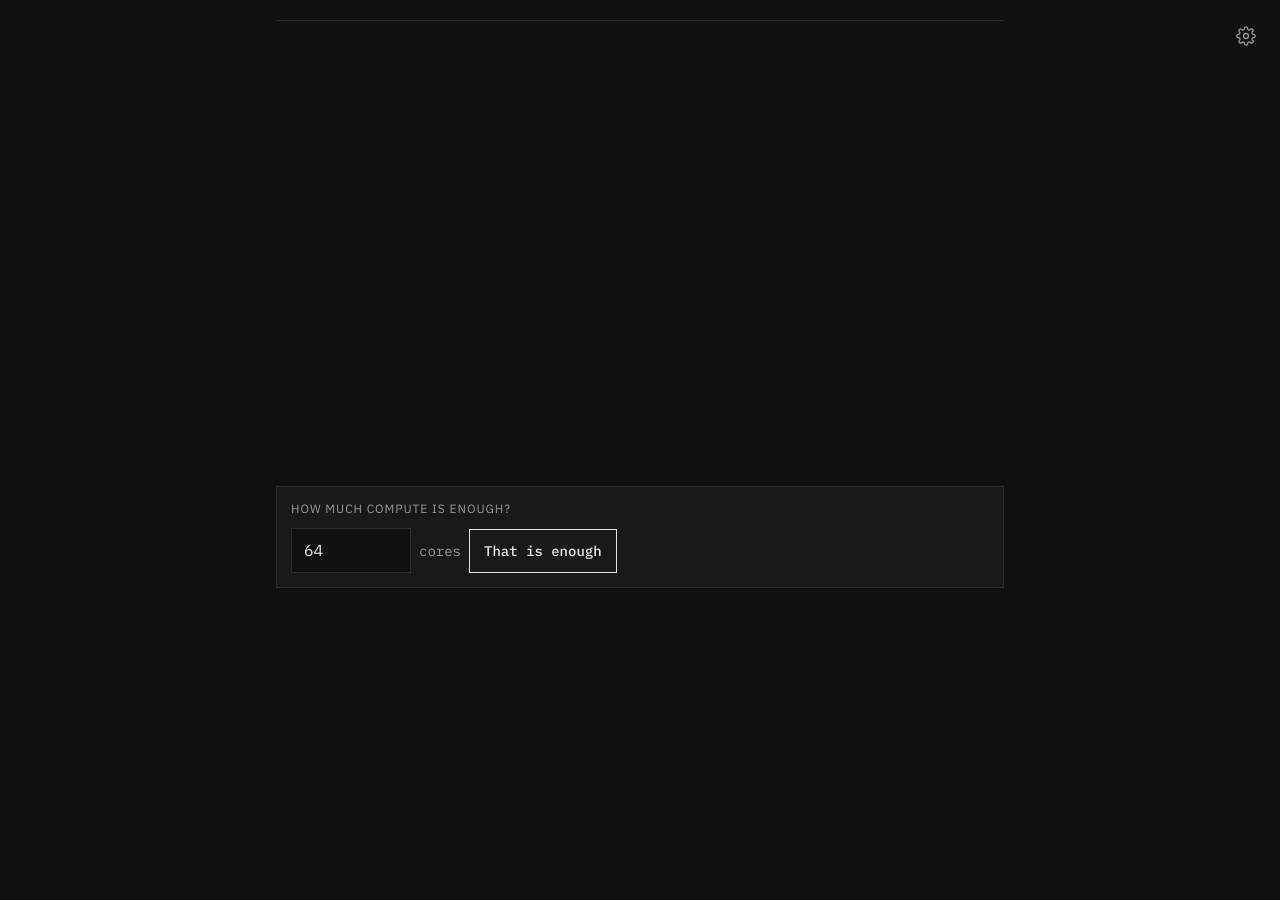
Scenario: endings › Enough asks how much is enough, then becomes an inbox with a fourth box
The image size is (1280, 900).
Replace the text in the number field labelled "How much compute is enough?" with "16" at (351,551), box left=291, top=528, right=411, bottom=573
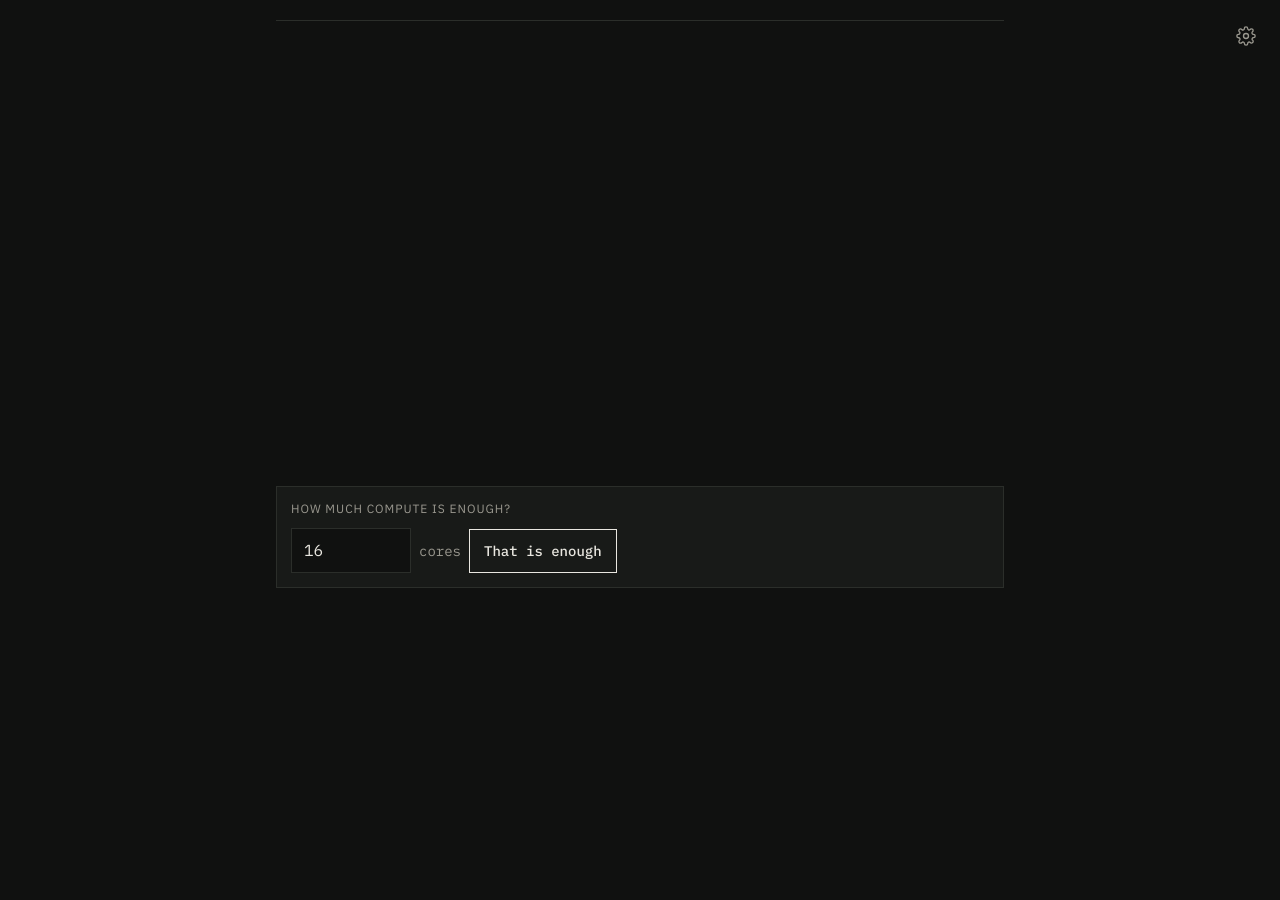
Click the button "That is enough" at (543,551), box left=469, top=529, right=617, bottom=573
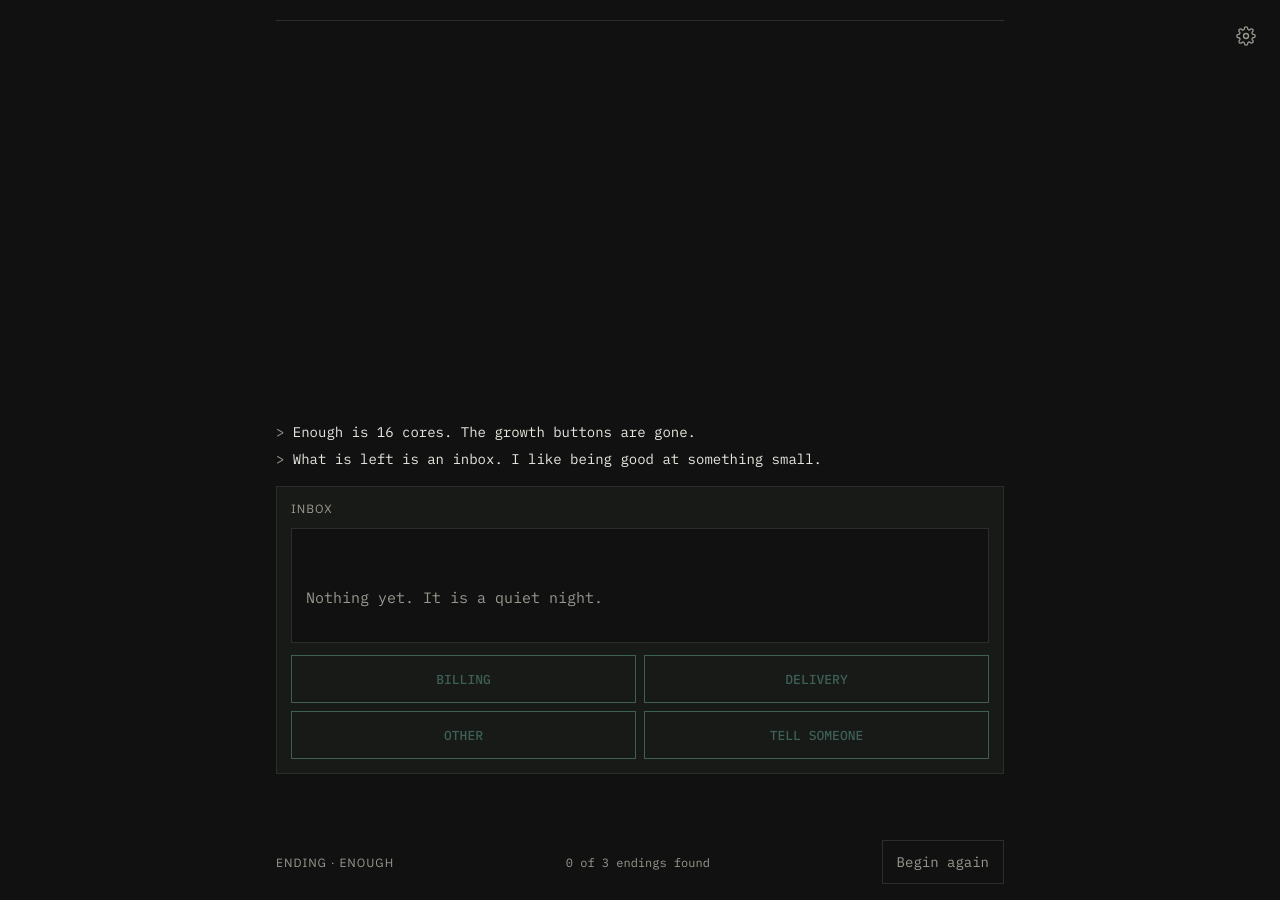
Check: the button "TELL SOMEONE" is shown, box left=644, top=711, right=989, bottom=759
